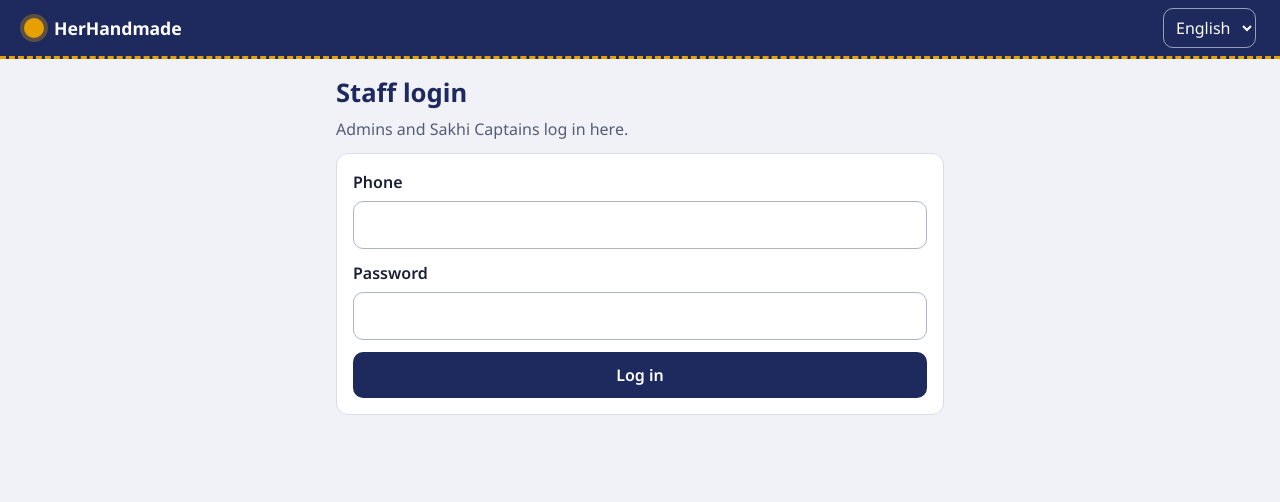
Test case: shows a translated message for a wrong password
This screenshot has width=1280, height=502.
Type "9000000001" into the field labelled "Phone" at point(640, 225), box 353,201 -> 927,249
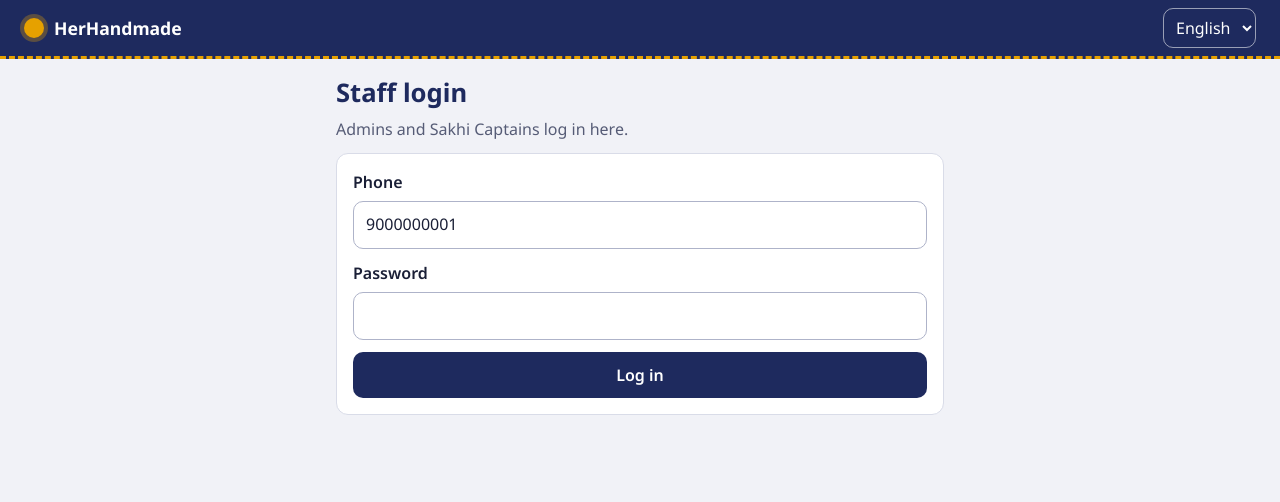
Type "wrong" into the password field labelled "Password" at point(640, 316), box 353,292 -> 927,340
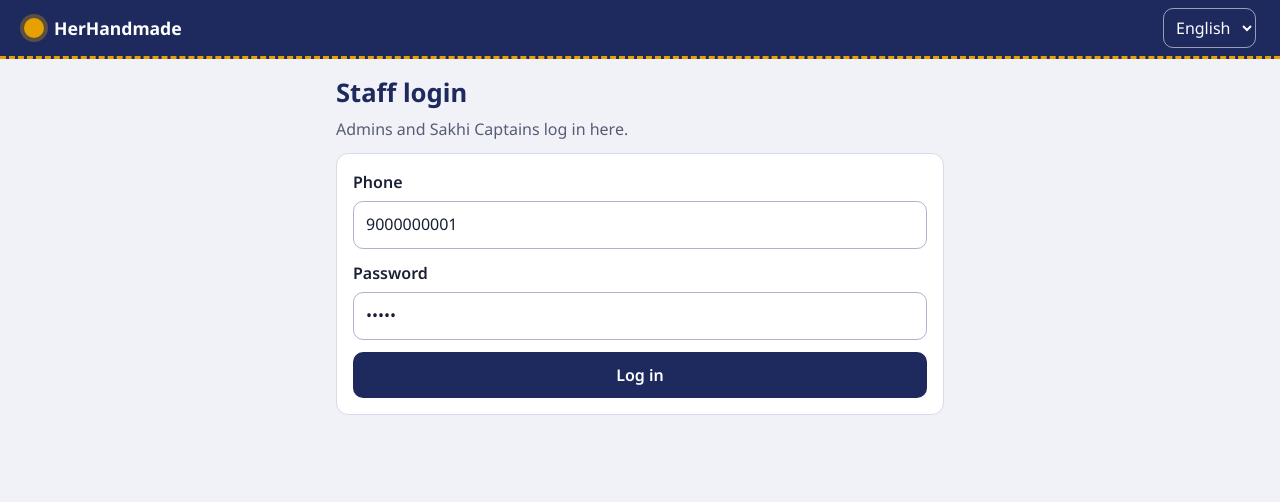
Click the button "Log in" at point(640, 375), box 353,352 -> 927,398
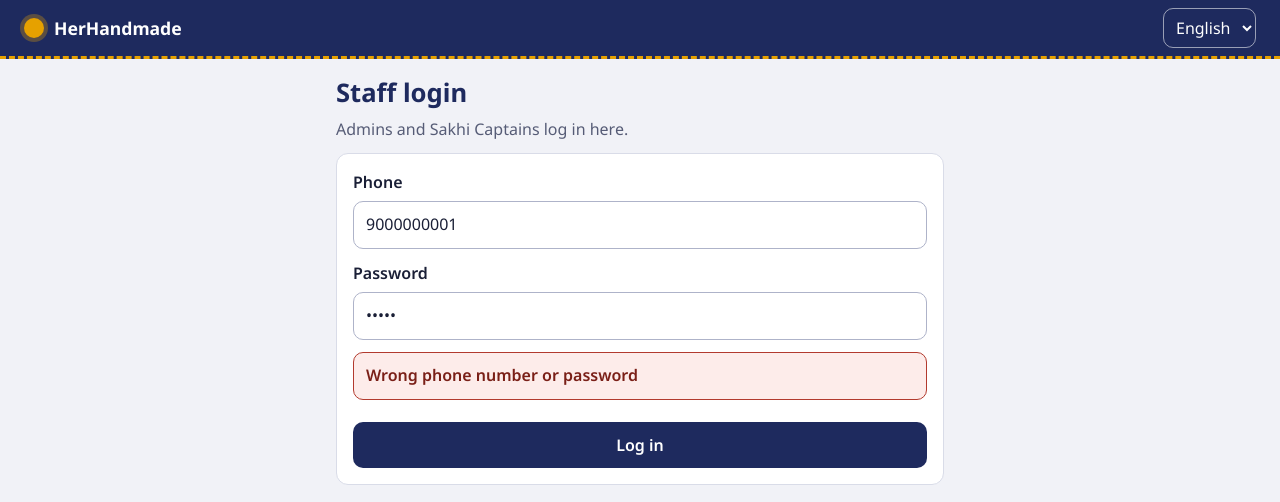
Check: the message reads "Wrong phone number or password", box 366,364 -> 638,386
